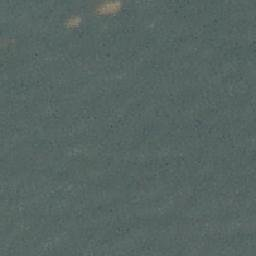debris: (94, 1, 122, 16), (64, 16, 80, 27)
